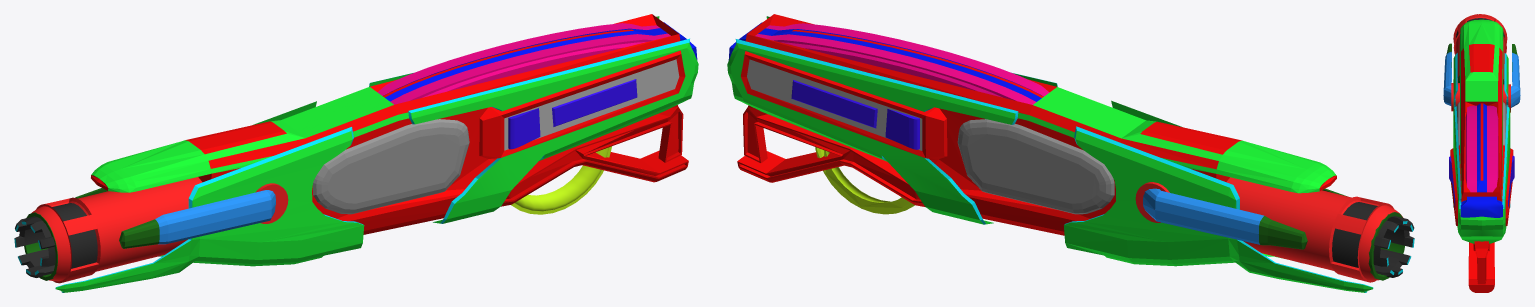
File: Progeny RL V2.FBX
3 renders of one model, left to right at view 1: azimuth 30°, elevation 25°; view 2: azimuth 150°, elevation 25°; view 3: azimuth 270°, elevation 25°, orthographic. The views are drawn at different scales.
Visible parts, largest first — view 1: Body v1, Front Panel, Back Panel, Glass Covers, Sphere001, Cylinder005, Object002, Sphere002, Barrel v2, Box002, Box001, Cylinder007 (+1 smaller); view 2: Body v1, Front Panel, Back Panel, Glass Covers, Sphere001, Cylinder005, Object001, Barrel v2, Box003, Sphere002, Box004, Cylinder006 (+1 smaller); view 3: Body v1, Cylinder005, Back Panel, Sphere001, Object001, Front Panel, Object002, Glass Covers, Cylinder007, Cylinder008, Box004, Box001 (+1 smaller).
Boxes of the visible parts, x1,y1,x2,y2 form: Body v1: [91, 14, 688, 234]; Front Panel: [55, 101, 364, 292]; Back Panel: [369, 16, 698, 223]; Glass Covers: [313, 119, 469, 214]; Sphere001: [31, 177, 202, 283]; Cylinder005: [377, 22, 697, 104]; Object002: [119, 190, 275, 248]; Sphere002: [511, 146, 611, 214]; Barrel v2: [14, 216, 55, 277]; Box002: [552, 79, 637, 126]; Box001: [508, 108, 540, 149]; Cylinder007: [255, 183, 288, 223]; Body v1: [737, 14, 1336, 235]; Front Panel: [1064, 100, 1373, 292]; Back Panel: [727, 16, 1057, 224]; Glass Covers: [957, 119, 1114, 214]; Sphere001: [1227, 177, 1403, 282]; Cylinder005: [728, 22, 1049, 104]; Object001: [1143, 188, 1307, 249]; Barrel v2: [1373, 216, 1414, 277]; Box003: [791, 80, 877, 128]; Sphere002: [815, 147, 914, 214]; Box004: [885, 108, 919, 149]; Cylinder006: [1368, 212, 1404, 280]; Body v1: [1450, 19, 1513, 292]; Cylinder005: [1460, 103, 1502, 217]; Back Panel: [1453, 106, 1510, 243]; Sphere001: [1453, 14, 1507, 83]; Object001: [1511, 44, 1520, 107]; Front Panel: [1453, 53, 1508, 110]; Object002: [1443, 43, 1451, 105]; Glass Covers: [1456, 102, 1506, 145]; Cylinder007: [1451, 83, 1459, 111]; Cylinder008: [1503, 84, 1510, 112]; Box004: [1511, 155, 1514, 183]; Box001: [1449, 156, 1452, 183].
Size of the model in its own units: 354 by 86.75 by 54.07.
